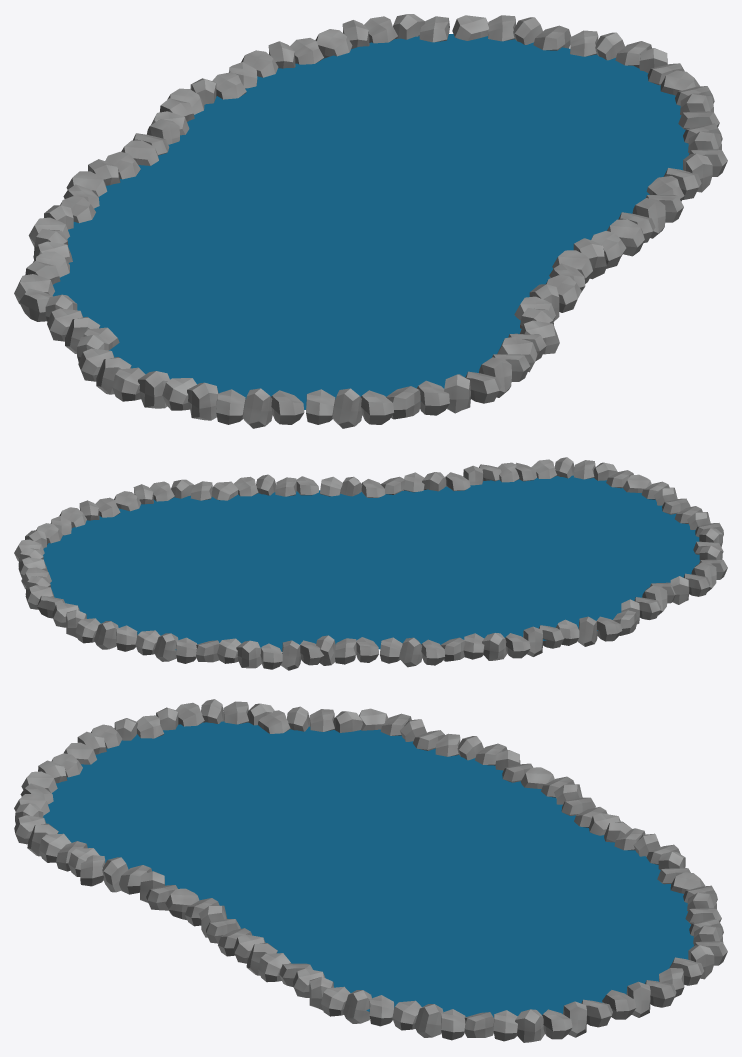
File: Pond.fbx
3 renders of one model, top to bottom at view 1: azimuth 30°, elevation 25°; view 2: azimuth 150°, elevation 25°; view 3: azimuth 270°, elevation 25°, orthographic. The views are drawn at different scales.
Parts seen in each view (by area): view 1: polySurface86; view 2: polySurface86; view 3: polySurface86.
Boxes of the visible parts, x1,y1,x2,y2 form: polySurface86: (14,14,727,428); polySurface86: (14,457,727,670); polySurface86: (14,699,727,1042).
Size of the model in its own units: 28.03 by 1.34 by 26.04.
1 material, 1 textured.
